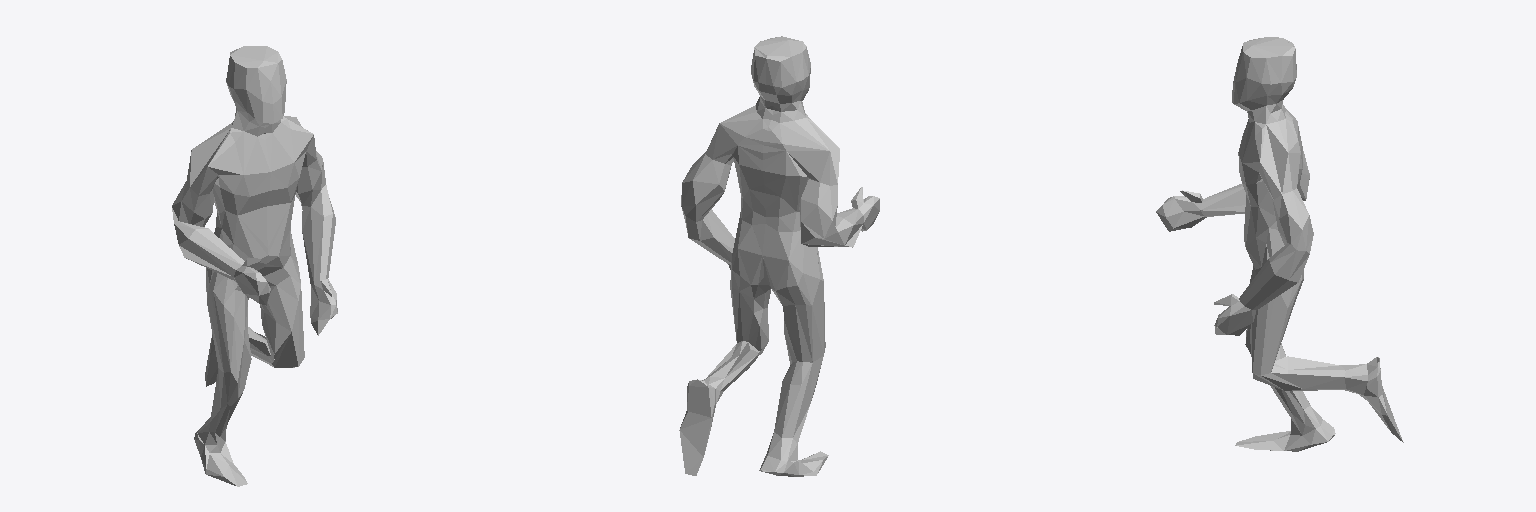
Rendered from goodman_l_pass.obj.
3 renders of one model, left to right at view 1: azimuth 30°, elevation 25°; view 2: azimuth 150°, elevation 25°; view 3: azimuth 270°, elevation 25°, orthographic.
Parts seen in each view (by area): view 1: body_mesh_Sphere; view 2: body_mesh_Sphere; view 3: body_mesh_Sphere.
Part boxes in pixels (left/top/right/bottom): body_mesh_Sphere: left=172, top=46, right=337, bottom=486; body_mesh_Sphere: left=679, top=36, right=879, bottom=476; body_mesh_Sphere: left=1156, top=37, right=1403, bottom=451.
Size of the model in its own units: 5.98 by 15.08 by 8.19.